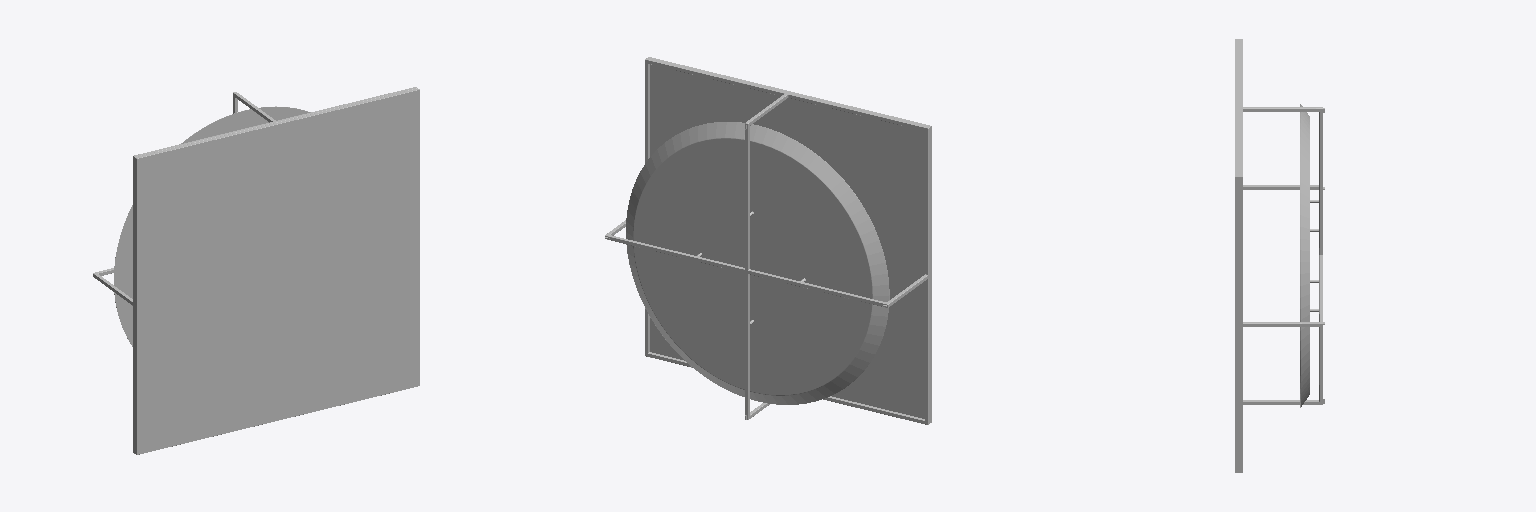
File: table.obj
The picture shows the model from 3 angles: view 1: azimuth 30°, elevation 25°; view 2: azimuth 150°, elevation 25°; view 3: azimuth 270°, elevation 25°; orthographic projection.
Parts seen in each view (by area): view 1: Beek_Collection_Bibi_100x100_mat2; view 2: Beek_Collection_Bibi_100x100_mat2; view 3: Beek_Collection_Bibi_100x100_mat2.
Boxes of the visible parts, box(x1,y1,x2,y2) form: Beek_Collection_Bibi_100x100_mat2: box(93, 87, 419, 454); Beek_Collection_Bibi_100x100_mat2: box(605, 57, 931, 424); Beek_Collection_Bibi_100x100_mat2: box(1235, 39, 1324, 472).
Bounding box in the file's own units: 100 × 100 × 27.5.